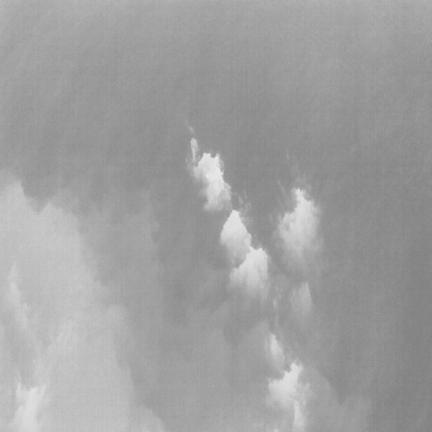flukeprints: (278, 188, 319, 261), (189, 138, 230, 210), (230, 247, 267, 299), (220, 210, 251, 266), (267, 363, 302, 411)
